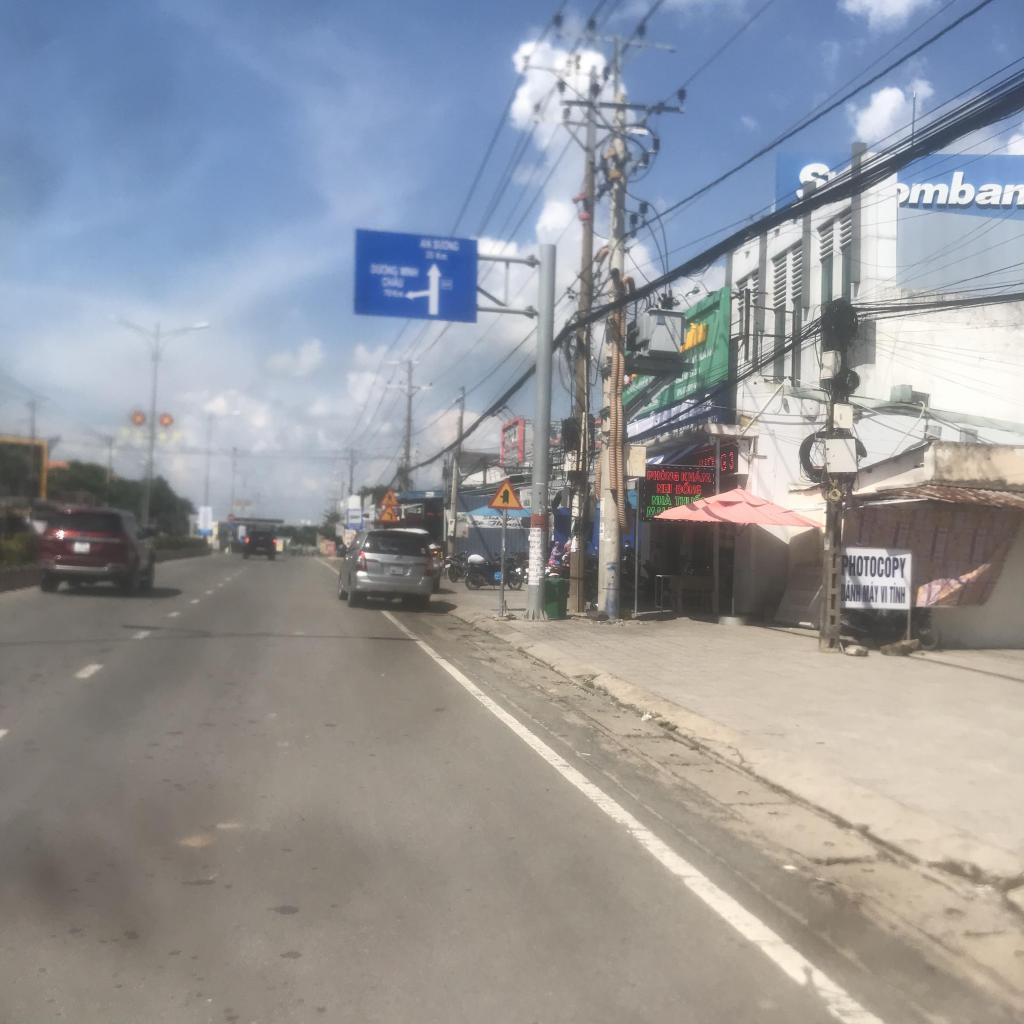cho_ngoat_nguy_hiem_ben_trai: (377, 505, 399, 522)
chu_y_nguoi_di_bo_cat_ngang: (379, 486, 400, 507)
giao_nhau_voi_duong_khong_uu_tien: (487, 477, 524, 510)
khac: (354, 229, 477, 322)
